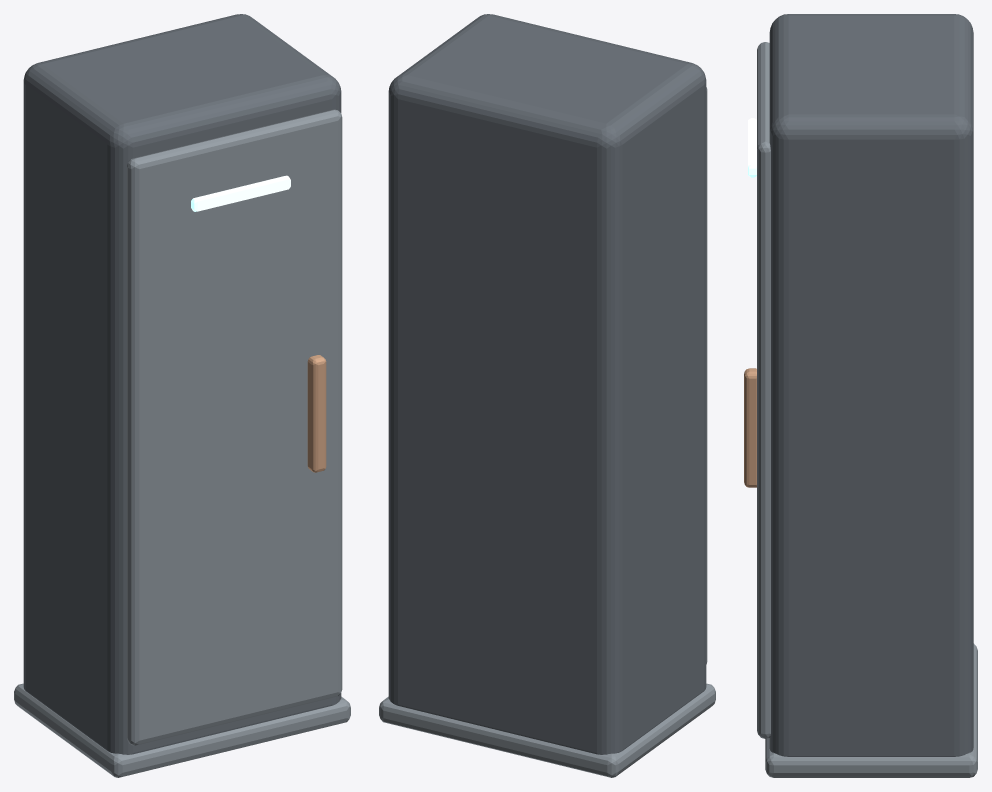
Rendered from crew_locker.glb.
3 views of the same model, side by side, from view 1: azimuth 30°, elevation 25°; view 2: azimuth 150°, elevation 25°; view 3: azimuth 270°, elevation 25° (orthographic).
Visible parts, largest first — view 1: shell_003, shell_001, shell_002, shell_004, shell_005; view 2: shell_001, shell_002, shell_003; view 3: shell_001, shell_003, shell_002, shell_004, shell_005.
Part boxes in pixels (bbox=[...]): shell_003: bbox=[127, 109, 342, 745]; shell_001: bbox=[23, 14, 341, 754]; shell_002: bbox=[14, 683, 350, 777]; shell_004: bbox=[307, 355, 326, 472]; shell_005: bbox=[191, 175, 290, 211]; shell_001: bbox=[388, 14, 706, 754]; shell_002: bbox=[379, 683, 715, 777]; shell_003: bbox=[706, 87, 707, 664]; shell_001: bbox=[769, 14, 973, 756]; shell_003: bbox=[757, 42, 770, 738]; shell_002: bbox=[765, 643, 977, 777]; shell_004: bbox=[744, 368, 756, 487]; shell_005: bbox=[748, 118, 756, 177].
Size of the model in its own units: 0.66 by 1.71 by 0.55.
